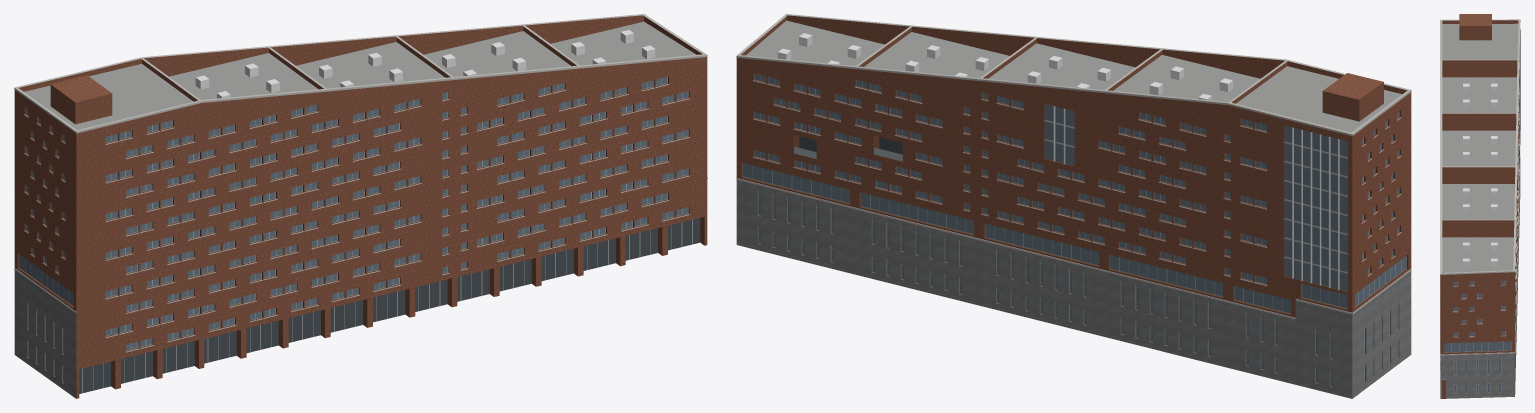
3 renders of one model, left to right at view 1: azimuth 30°, elevation 25°; view 2: azimuth 150°, elevation 25°; view 3: azimuth 270°, elevation 25°, orthographic. The views are drawn at different scales.
Visible parts, largest first — view 1: dormF__brick, dormF__glass, dormF__roof, dormF__glassDark, dormF__reveal, dormF__frame, dormF__sill, dormF__granite, dormF__coping, dormF__unit, dormF__core; view 2: dormF__brick, dormF__granite, dormF__glass, dormF__roof, dormF__frame, dormF__reveal, dormF__coping, dormF__sill, dormF__graniteRev, dormF__core, dormF__unit; view 3: dormF__roof, dormF__brick, dormF__granite, dormF__coping, dormF__glass, dormF__unit, dormF__core, dormF__frame, dormF__sill, dormF__reveal.
Boxes of the visible parts, box(x1,y1,x2,y2) form: dormF__brick: box(14, 15, 707, 398); dormF__glass: box(19, 77, 688, 381); dormF__roof: box(24, 21, 696, 129); dormF__glassDark: box(79, 218, 700, 393); dormF__reveal: box(17, 76, 689, 351); dormF__frame: box(20, 77, 692, 393); dormF__sill: box(24, 84, 689, 352); dormF__granite: box(14, 270, 76, 398); dormF__coping: box(14, 14, 707, 313); dormF__unit: box(195, 30, 655, 98); dormF__core: box(50, 75, 112, 124); dormF__brick: box(736, 15, 1411, 317); dormF__granite: box(736, 180, 1411, 398); dormF__glass: box(743, 73, 1406, 386); dormF__roof: box(746, 20, 1401, 132); dormF__frame: box(742, 73, 1406, 386); dormF__reveal: box(741, 73, 1408, 314); dormF__coping: box(736, 14, 1411, 319); dormF__sill: box(753, 80, 1401, 286); dormF__graniteRev: box(757, 190, 1399, 387); dormF__core: box(1322, 73, 1383, 121); dormF__unit: box(777, 33, 1232, 100); dormF__roof: box(1442, 23, 1518, 272); dormF__brick: box(1440, 20, 1519, 398); dormF__granite: box(1440, 158, 1520, 398); dormF__coping: box(1440, 19, 1520, 355); dormF__glass: box(1444, 280, 1510, 393); dormF__unit: box(1463, 83, 1497, 266); dormF__core: box(1459, 14, 1491, 40); dormF__frame: box(1444, 29, 1520, 393); dormF__sill: box(1440, 62, 1519, 369); dormF__reveal: box(1444, 61, 1519, 353).
Bounding box in the file's own units: 103 × 43.9 × 17.23.
14 materials, 5 textured.
